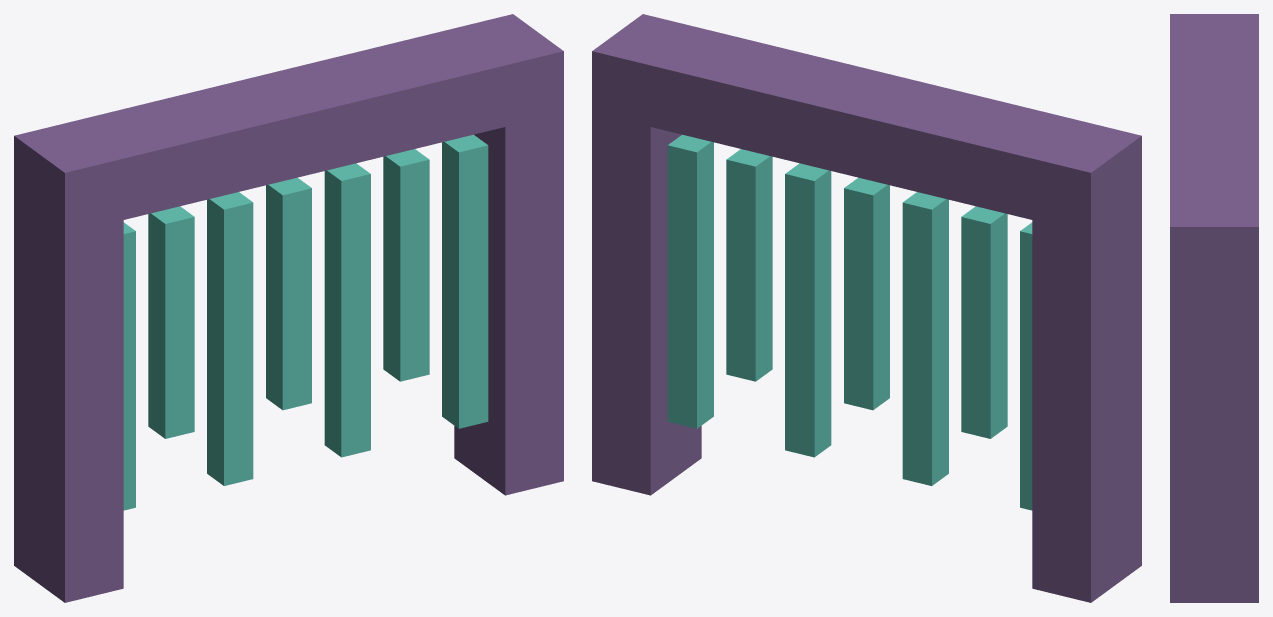
Rendered from alien-biosphere-root-curtain-1089a6b7__22816.glb.
The picture shows the model from 3 angles, left to right: view 1: azimuth 30°, elevation 25°; view 2: azimuth 150°, elevation 25°; view 3: azimuth 270°, elevation 25°; orthographic projection. The views are drawn at different scales.
Parts seen in each view (by area): view 1: root-curtain_0, root-curtain_1; view 2: root-curtain_0, root-curtain_1; view 3: root-curtain_0.
Part boxes in pixels (bbox=[...]): root-curtain_0: bbox=[14, 14, 563, 602]; root-curtain_1: bbox=[123, 134, 488, 510]; root-curtain_0: bbox=[592, 14, 1141, 602]; root-curtain_1: bbox=[667, 134, 1032, 510]; root-curtain_0: bbox=[1170, 14, 1258, 602].
Size of the model in its own units: 3.4 by 2.8 by 0.5997.
